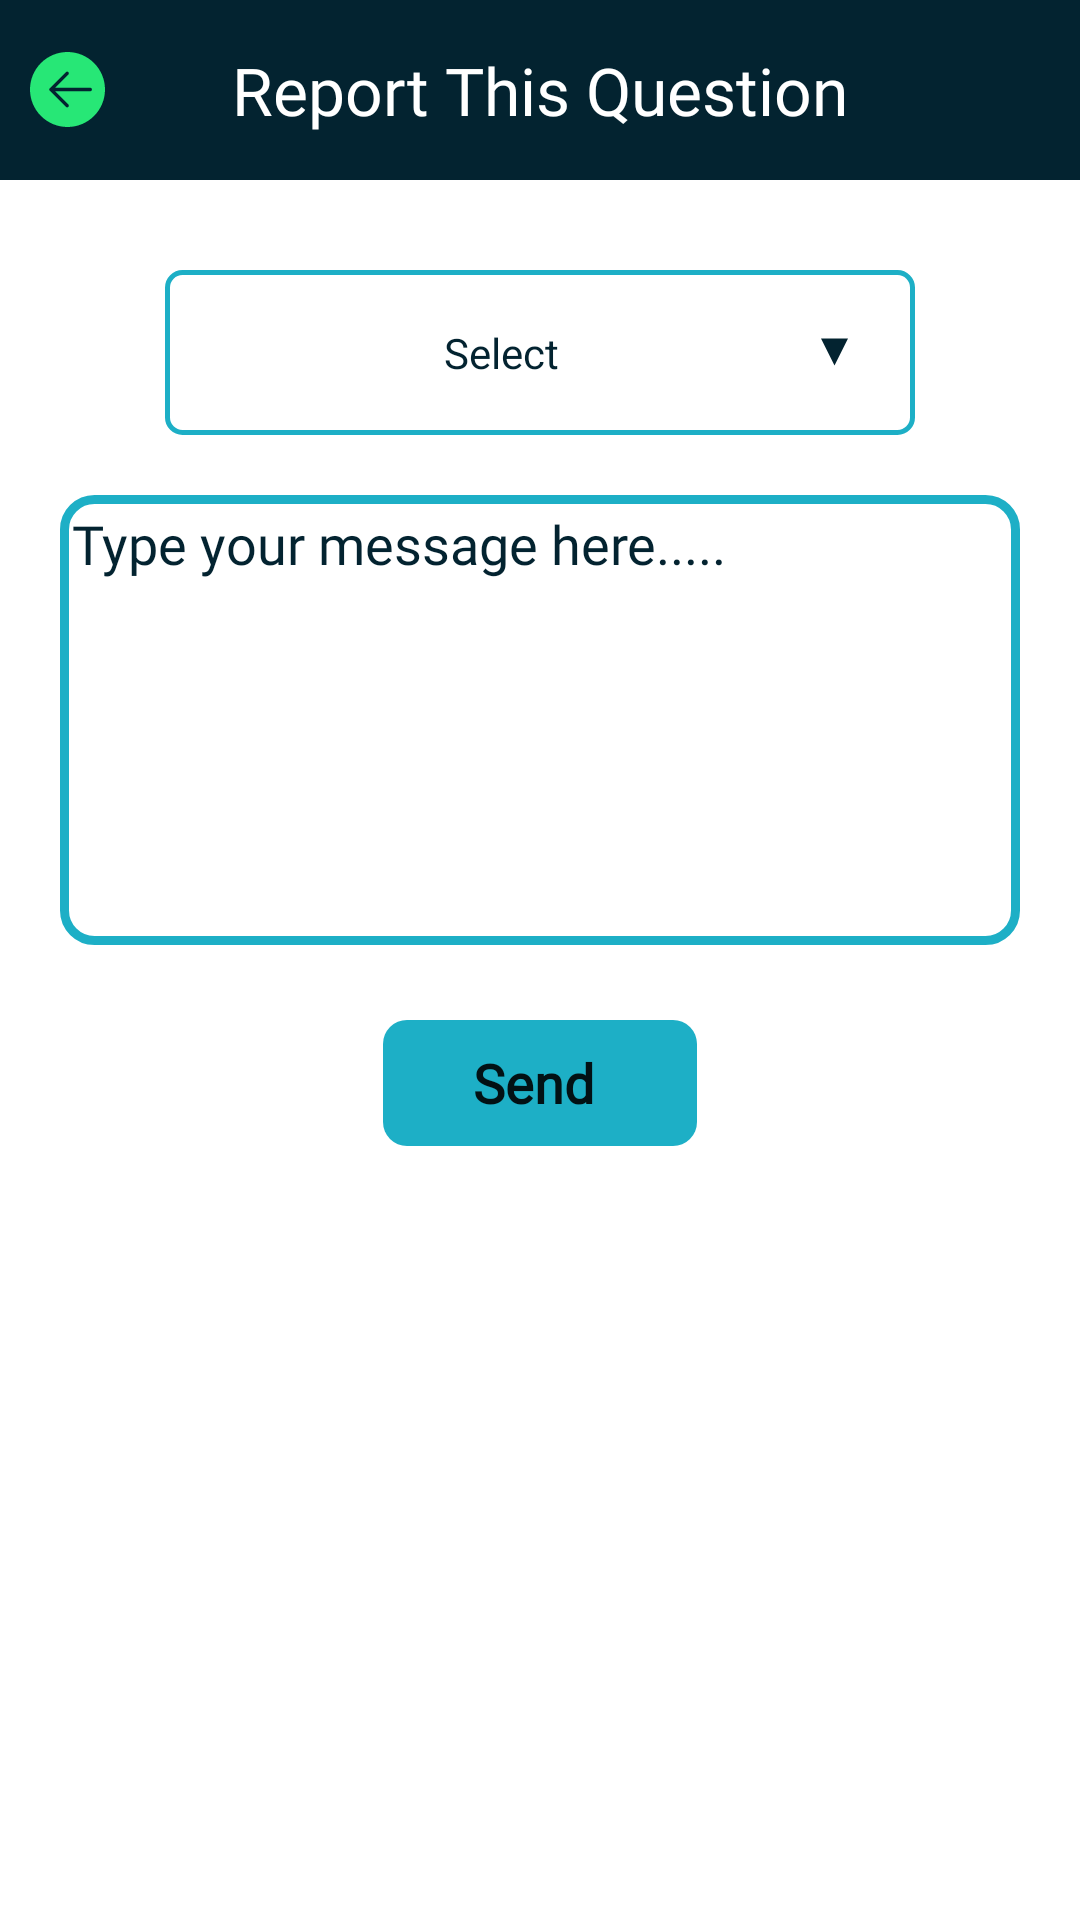

Icon click points for this 1080x1920 phone screenshot, format point (x, y):
down arrow: point (834, 352)
